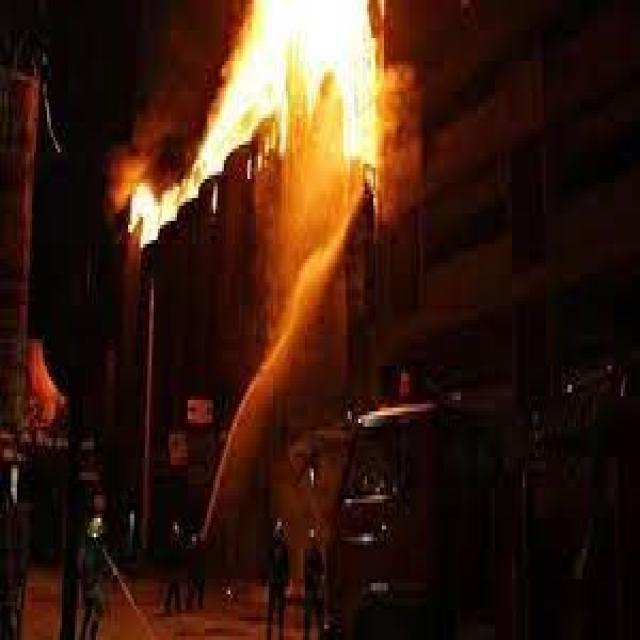Fire: (239, 9, 406, 143), (130, 149, 242, 238)
Smoke: (112, 8, 243, 143)
